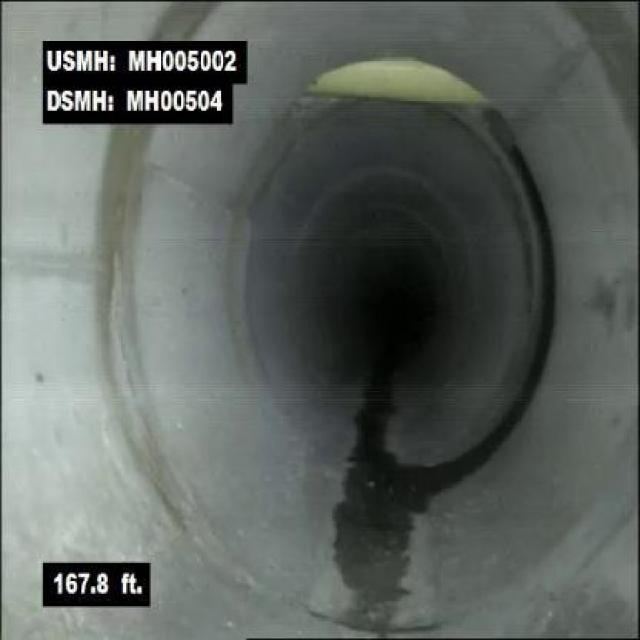Utility intrusion: (298, 51, 498, 109)
